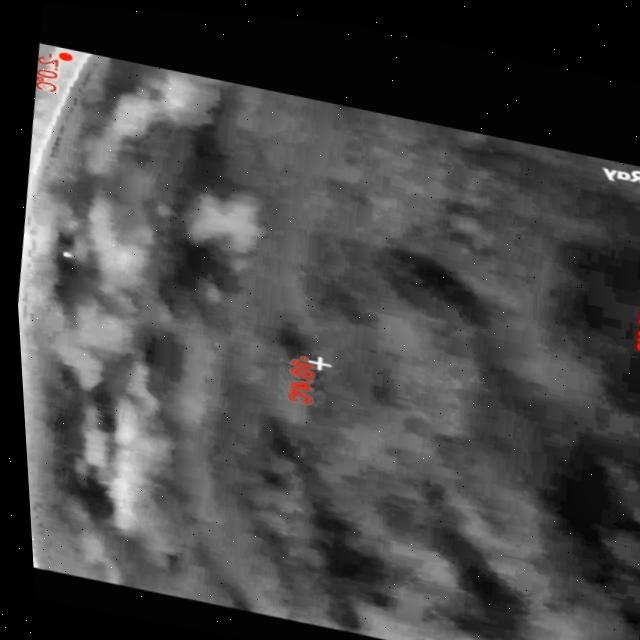drone: (53, 248, 71, 259)
